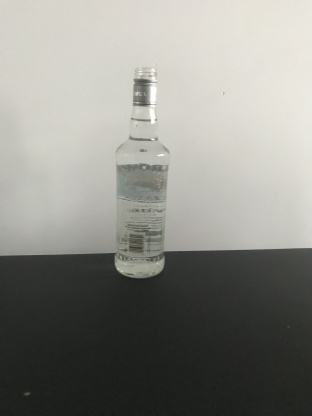nakretka: (131, 67, 159, 107)
